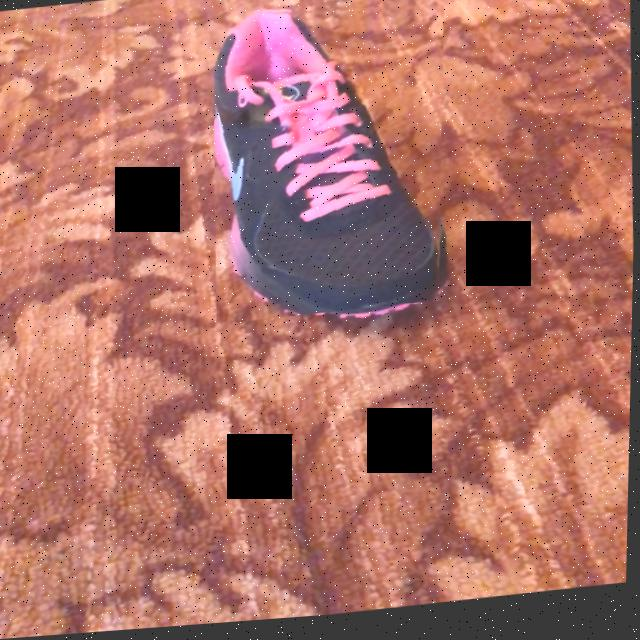shoe: (213, 16, 443, 318)
